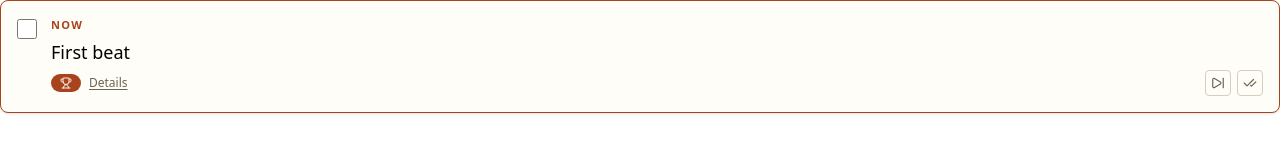
StepRow reskin (R3) › expands detail through a Radix Collapsible
The image size is (1280, 160).
Click the button "Details": (108, 82) [89,74,128,90]
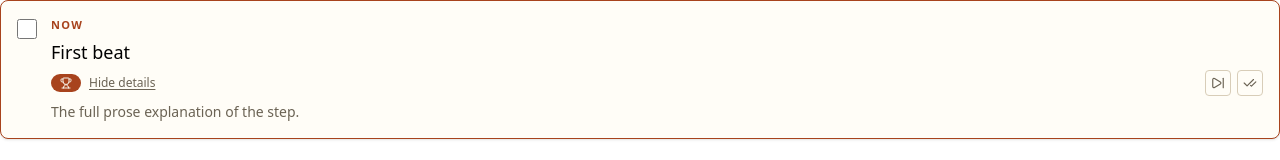
Now the element showing "The full prose explanation of the step." is shown, box [51,102,299,120]
